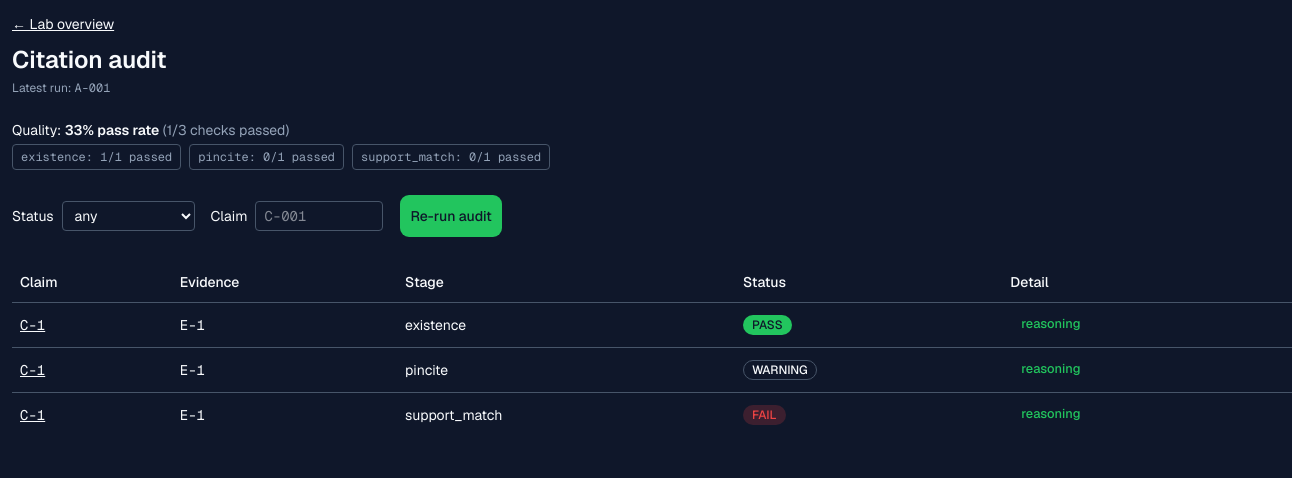
Test case: AuditPage › renders rows with stage badges and expands reasoning
Expected: the text "A-001" is shown, [74,80,110,96]
Click the button with aria-label "Show reasoning for C-1 support_match".
click(1051, 414)  # box [1010,400,1092,428]
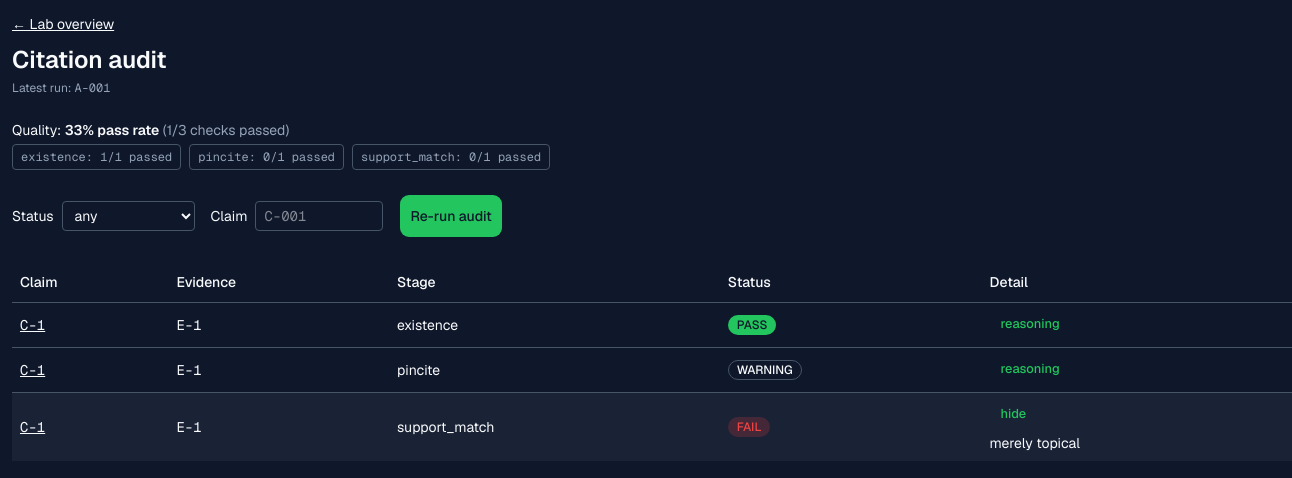
Result: the text "merely topical" is shown at [990,434,1080,452]
